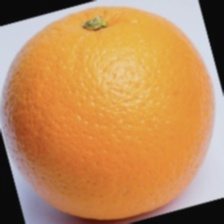orange: (15, 12, 200, 185)
